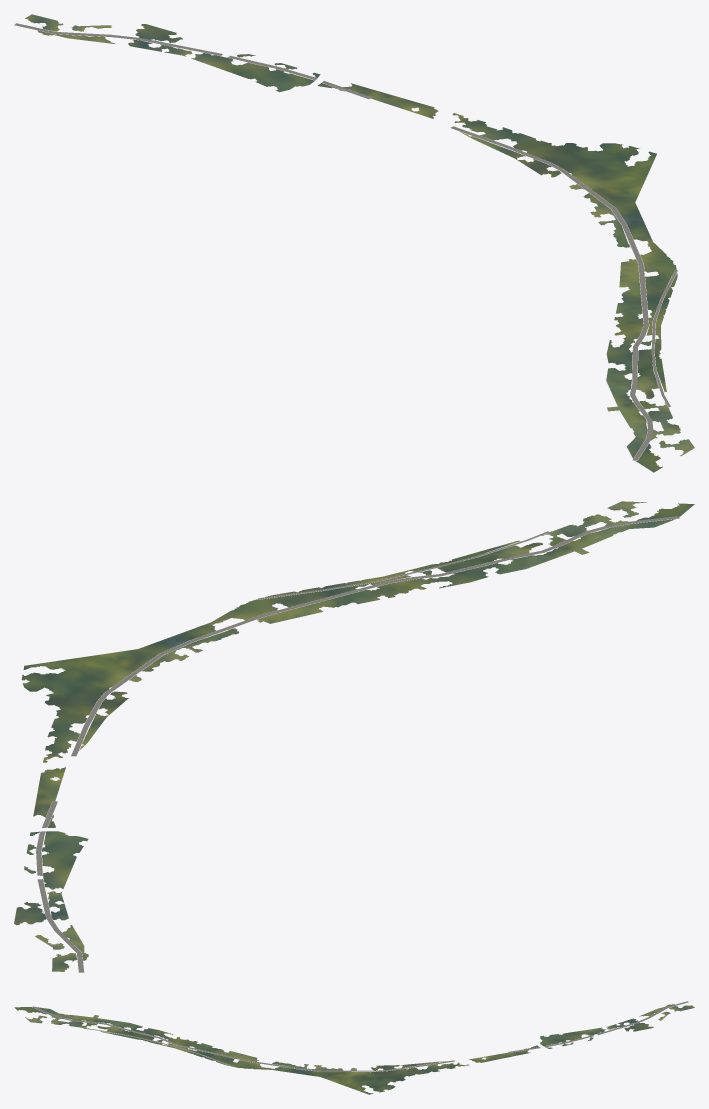
3 renders of one model, top to bottom at view 1: azimuth 30°, elevation 25°; view 2: azimuth 150°, elevation 25°; view 3: azimuth 270°, elevation 25°, orthographic. The views are drawn at different scales.
Visible parts, largest first — view 1: Marina Promenade ground cover, Marina Promenade concrete; view 2: Marina Promenade ground cover, Marina Promenade concrete; view 3: Marina Promenade ground cover, Marina Promenade concrete.
Part boxes in pixels (x1=…): Marina Promenade ground cover: x1=25, y1=14, x2=694, y2=472; Marina Promenade concrete: x1=14, y1=23, x2=677, y2=460; Marina Promenade ground cover: x1=14, y1=501, x2=694, y2=971; Marina Promenade concrete: x1=36, y1=516, x2=679, y2=972; Marina Promenade ground cover: x1=14, y1=1004, x2=694, y2=1094; Marina Promenade concrete: x1=32, y1=1001, x2=688, y2=1071.
Size of the model in its own units: 283 by 0.3601 by 874.
2 materials, 2 textured.
